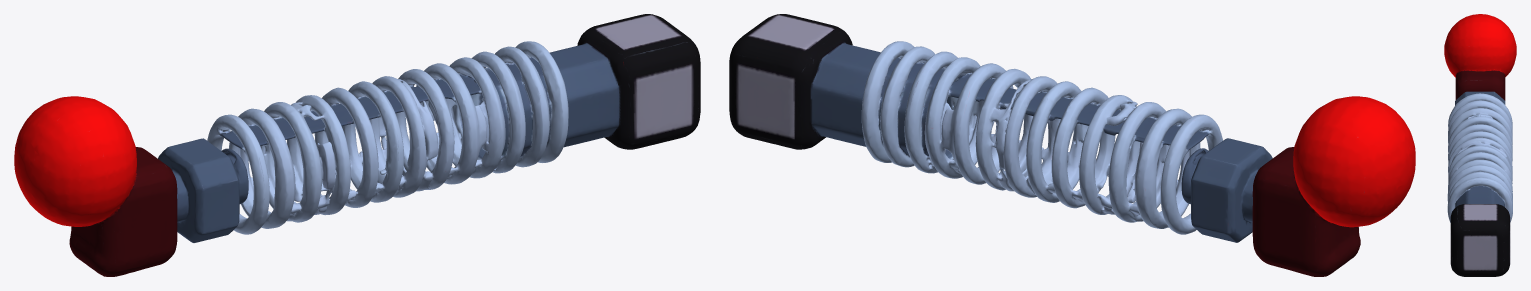
Rendered from plunger.glb.
3 views of the same model, side by side, from view 1: azimuth 30°, elevation 25°; view 2: azimuth 150°, elevation 25°; view 3: azimuth 270°, elevation 25° (orthographic). The views are drawn at different scales.
Size of the model in its own units: 1 by 0.2505 by 0.1679.
Materials: 1 (1 with a texture image).
